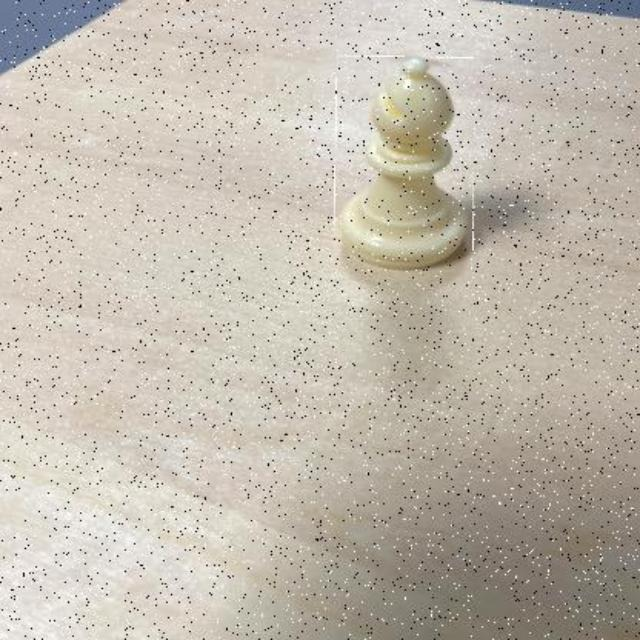white-bishop: (335, 56, 475, 271)
